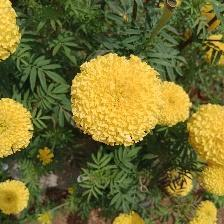marigold: (71, 54, 165, 148)
